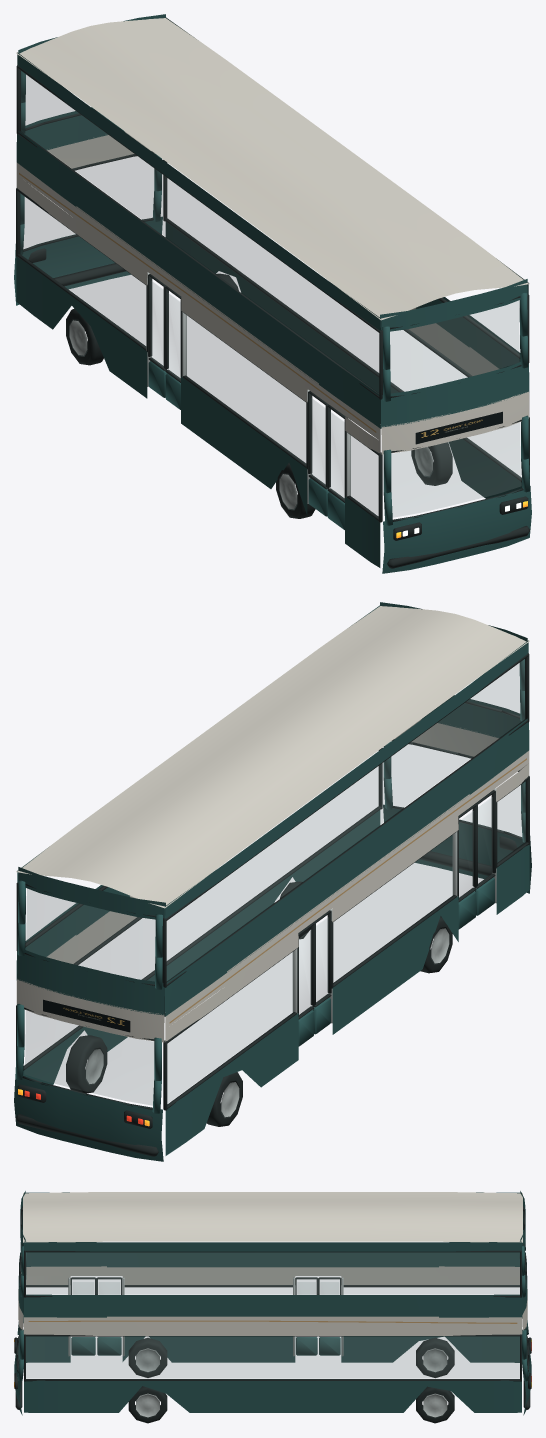
The model's file is serein-d11-lod2.glb.
The picture shows the model from 3 angles, top to bottom: view 1: azimuth 30°, elevation 25°; view 2: azimuth 150°, elevation 25°; view 3: azimuth 270°, elevation 25°; orthographic projection. The views are drawn at different scales.
Visible parts, largest first — view 1: LOD2-unselected-authoring-1243-pearl-batch, LOD2-unselected-authoring-1243-paintFar-batch, LOD2-unselected-authoring-1243-glass-batch, LOD2-unselected-authoring-1243-dark-batch, LOD2-unselected-authoring-1150-glass-batch, LOD2-unselected-authoring-1296-glass-batch, LOD2-unselected-authoring-1243-display-batch, LOD2-unselected-authoring-1388-dark-batch, LOD2-unselected-authoring-1271-glass-batch, LOD2-unselected-authoring-1361-glass-batch, LOD2-unselected-authoring-1001-dark-batch, LOD2-unselected-authoring-1243-metal-batch (+4 smaller); view 2: LOD2-unselected-authoring-1243-pearl-batch, LOD2-unselected-authoring-1243-paintFar-batch, LOD2-unselected-authoring-1243-glass-batch, LOD2-unselected-authoring-1243-dark-batch, LOD2-unselected-authoring-1004-dark-batch, LOD2-unselected-authoring-1150-glass-batch, LOD2-unselected-authoring-1296-glass-batch, LOD2-unselected-authoring-1243-display-batch, LOD2-unselected-authoring-1271-glass-batch, LOD2-unselected-authoring-1361-glass-batch, LOD2-unselected-authoring-1243-metal-batch, LOD2-unselected-authoring-1001-dark-batch (+2 smaller); view 3: LOD2-unselected-authoring-1243-paintFar-batch, LOD2-unselected-authoring-1243-pearl-batch, LOD2-unselected-authoring-1243-glass-batch, LOD2-unselected-authoring-1243-dark-batch, LOD2-unselected-authoring-1243-livery-batch, LOD2-unselected-authoring-1386-dark-batch, LOD2-unselected-authoring-1001-dark-batch, LOD2-unselected-authoring-1004-dark-batch, LOD2-unselected-authoring-1388-dark-batch, LOD2-unselected-authoring-1001-metal-batch, LOD2-unselected-authoring-1004-metal-batch, LOD2-unselected-authoring-1388-metal-batch (+6 smaller).
Part boxes in pixels (x1,y1,x2,y2): LOD2-unselected-authoring-1243-pearl-batch: [16, 18, 529, 454]; LOD2-unselected-authoring-1243-paintFar-batch: [14, 14, 531, 573]; LOD2-unselected-authoring-1243-glass-batch: [20, 72, 521, 517]; LOD2-unselected-authoring-1243-dark-batch: [16, 65, 529, 568]; LOD2-unselected-authoring-1150-glass-batch: [311, 398, 325, 485]; LOD2-unselected-authoring-1296-glass-batch: [330, 412, 344, 498]; LOD2-unselected-authoring-1243-display-batch: [415, 411, 502, 444]; LOD2-unselected-authoring-1388-dark-batch: [411, 442, 452, 485]; LOD2-unselected-authoring-1271-glass-batch: [151, 281, 163, 366]; LOD2-unselected-authoring-1361-glass-batch: [168, 293, 180, 378]; LOD2-unselected-authoring-1001-dark-batch: [66, 308, 103, 365]; LOD2-unselected-authoring-1243-metal-batch: [146, 272, 350, 503]; LOD2-unselected-authoring-1243-pearl-batch: [16, 606, 529, 1042]; LOD2-unselected-authoring-1243-paintFar-batch: [14, 602, 531, 1161]; LOD2-unselected-authoring-1243-glass-batch: [24, 660, 525, 1105]; LOD2-unselected-authoring-1243-dark-batch: [16, 653, 529, 1156]; LOD2-unselected-authoring-1004-dark-batch: [66, 1035, 107, 1093]; LOD2-unselected-authoring-1150-glass-batch: [459, 811, 473, 898]; LOD2-unselected-authoring-1296-glass-batch: [478, 797, 492, 884]; LOD2-unselected-authoring-1243-display-batch: [43, 999, 130, 1032]; LOD2-unselected-authoring-1271-glass-batch: [299, 930, 311, 1015]; LOD2-unselected-authoring-1361-glass-batch: [316, 918, 328, 1003]; LOD2-unselected-authoring-1243-metal-batch: [292, 788, 496, 1023]; LOD2-unselected-authoring-1001-dark-batch: [206, 1072, 242, 1126]; LOD2-unselected-authoring-1243-paintFar-batch: [14, 1191, 531, 1415]; LOD2-unselected-authoring-1243-pearl-batch: [18, 1192, 527, 1335]; LOD2-unselected-authoring-1243-glass-batch: [18, 1246, 527, 1378]; LOD2-unselected-authoring-1243-dark-batch: [14, 1206, 531, 1409]; LOD2-unselected-authoring-1243-livery-batch: [28, 1320, 517, 1323]; LOD2-unselected-authoring-1386-dark-batch: [128, 1337, 167, 1377]; LOD2-unselected-authoring-1001-dark-batch: [416, 1337, 454, 1378]; LOD2-unselected-authoring-1004-dark-batch: [416, 1386, 454, 1423]; LOD2-unselected-authoring-1388-dark-batch: [128, 1386, 167, 1423]; LOD2-unselected-authoring-1001-metal-batch: [423, 1348, 447, 1372]; LOD2-unselected-authoring-1004-metal-batch: [423, 1393, 447, 1417]; LOD2-unselected-authoring-1388-metal-batch: [136, 1393, 159, 1417].
Size of the model in its own units: 2.54 by 4.4 by 10.98.
10 materials, 1 textured.
